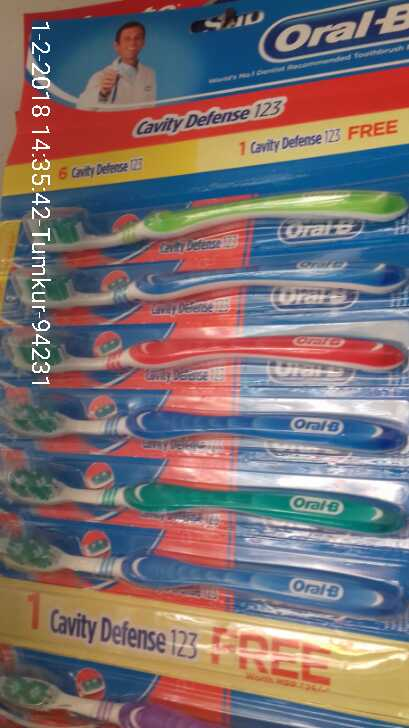oralb: (22, 191, 405, 253), (13, 251, 396, 313), (7, 319, 390, 381), (10, 385, 393, 447), (1, 462, 383, 524), (1, 529, 383, 591)
